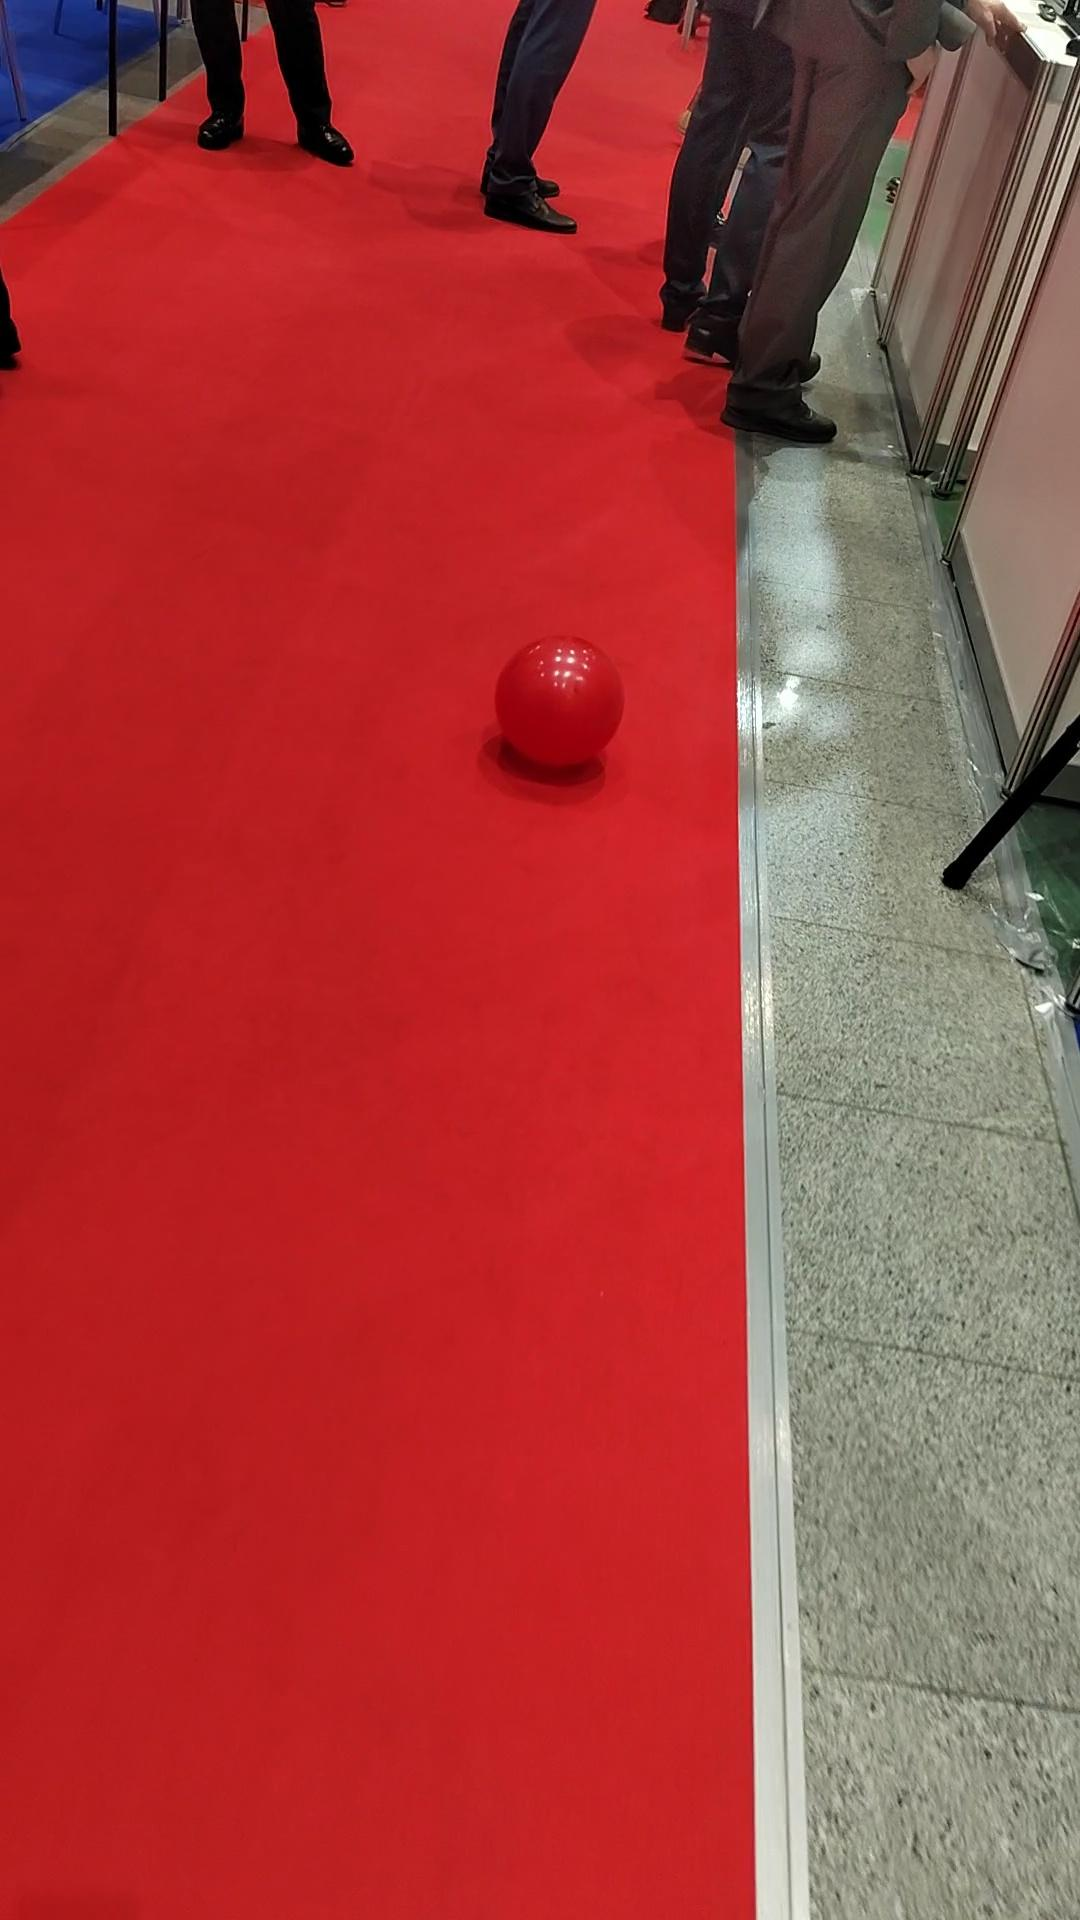red: (493, 634, 625, 770)
